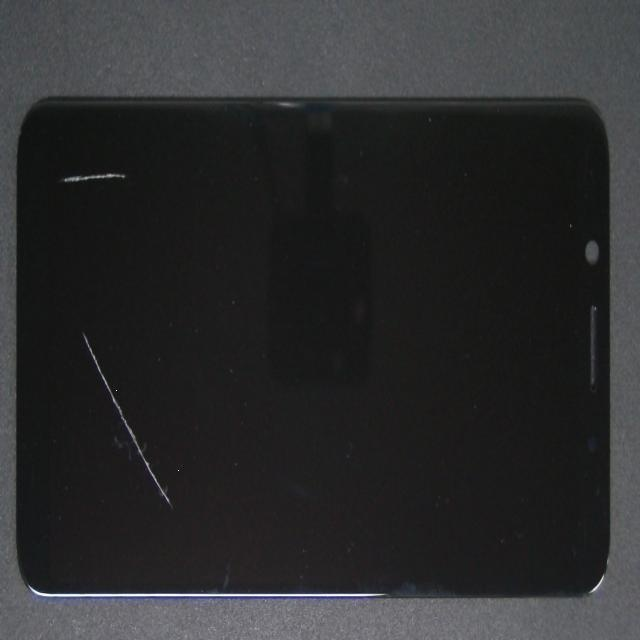scratch: (0, 104, 144, 611), (41, 64, 81, 269)
